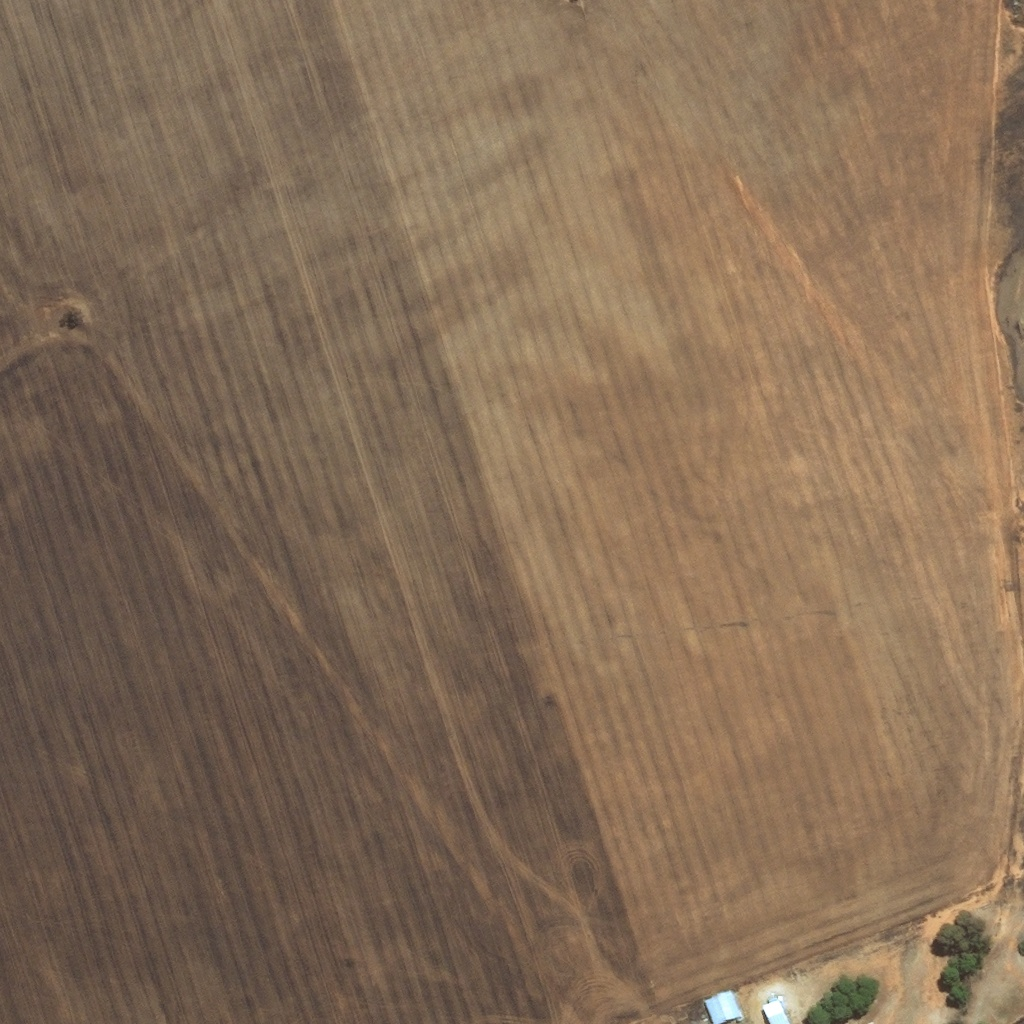0 no-damage: (704, 989, 740, 1023), (761, 997, 790, 1023)
